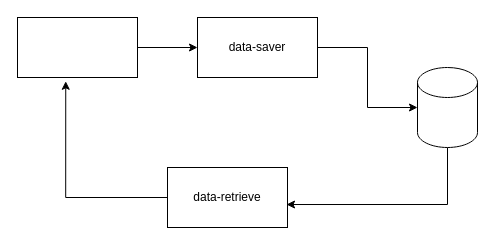
Image size: 495x245. Some labels were removed from this diagram. The shapes that lost their labels are listed below. From the top down, each one's centre as x and y in pixels, then its label:
At (x=77, y=47): "data-gen-api".
At (x=447, y=107): "db-sql".
